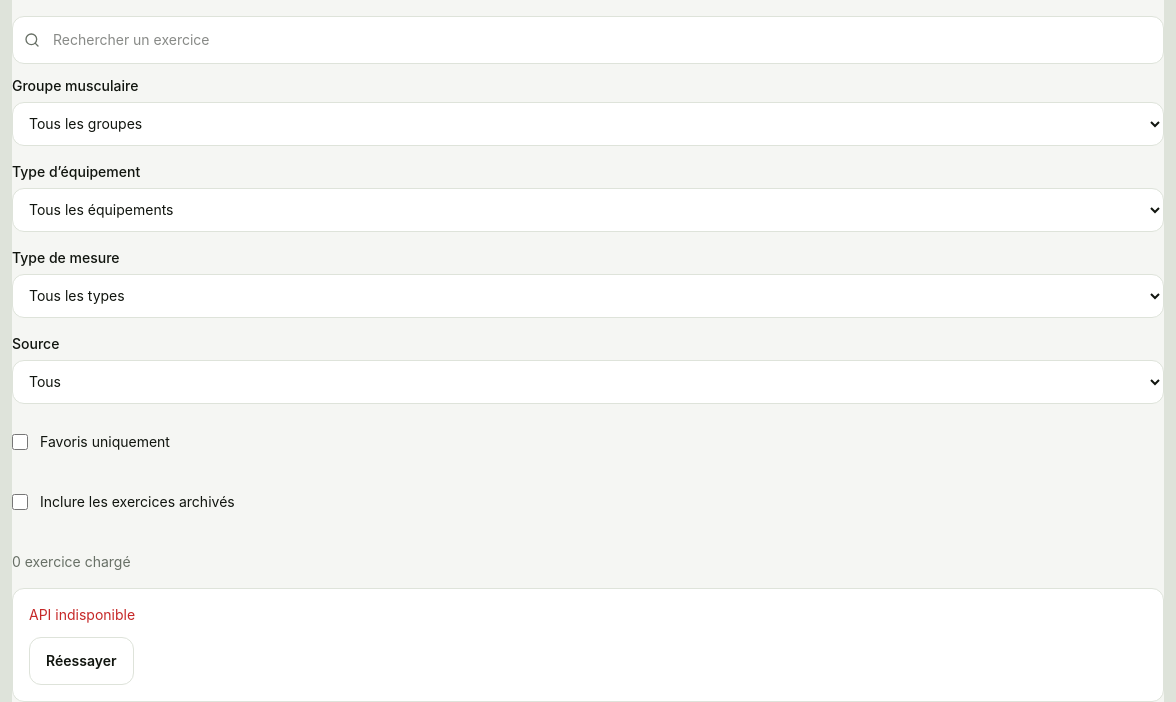
Test: ExercisesPage › shows an initial error with retry
The image size is (1176, 702).
(page scrolled)
Expected: the message shows "API indisponible", [29,606,135,623]
Click the button "Réessayer". click: (81, 661)
box: [29,637,134,685]
(page scrolled)
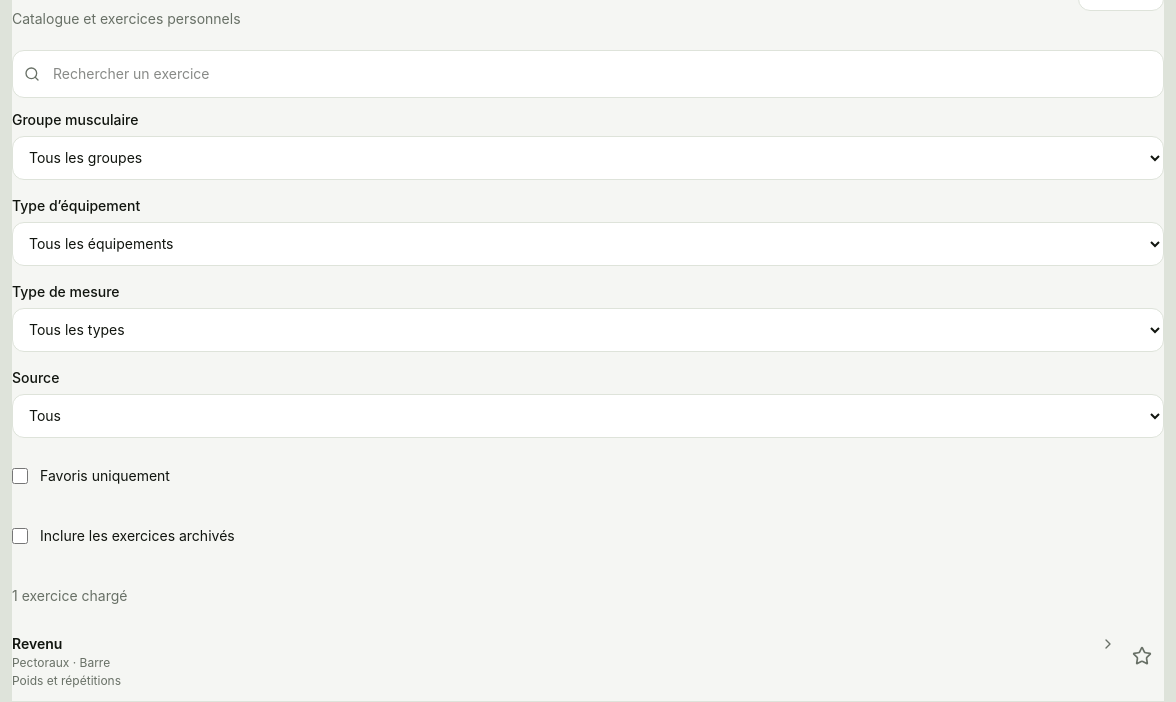
Now the heading "Revenu" is shown, box [12,634,62,653]
